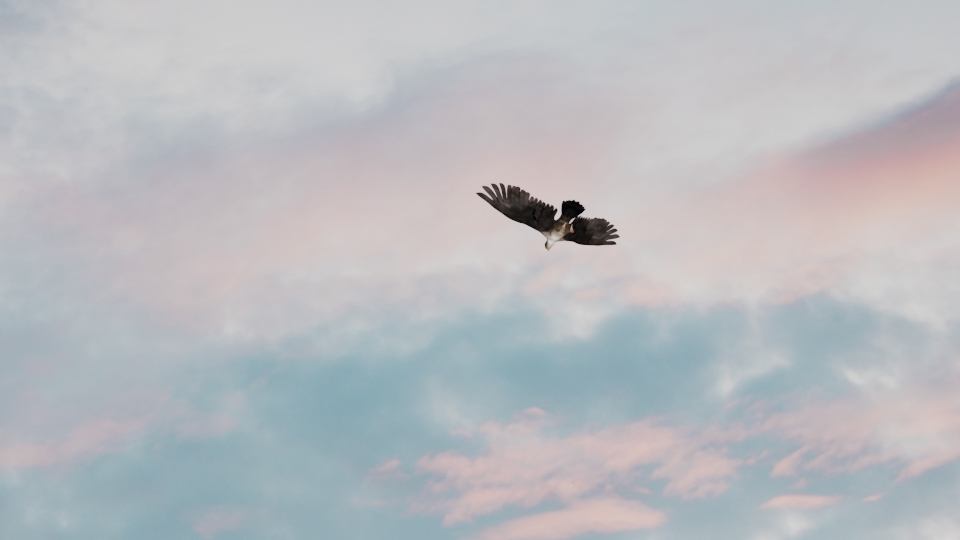bird: (475, 182, 618, 252)
